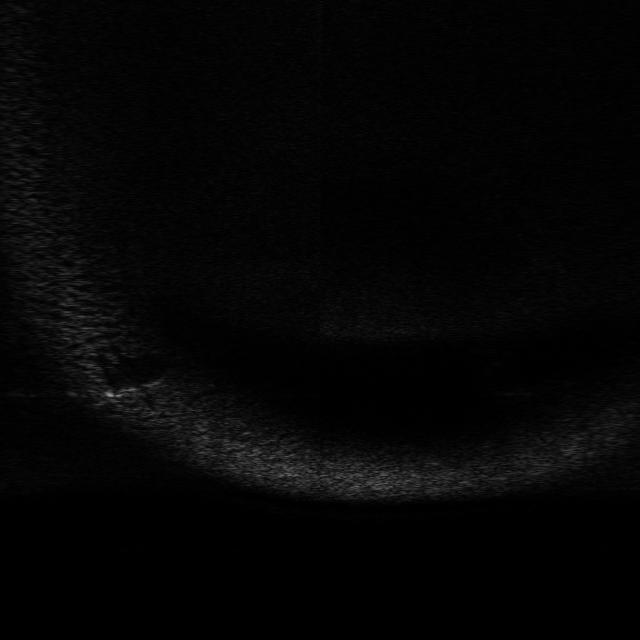plane: (88, 374, 166, 412)
